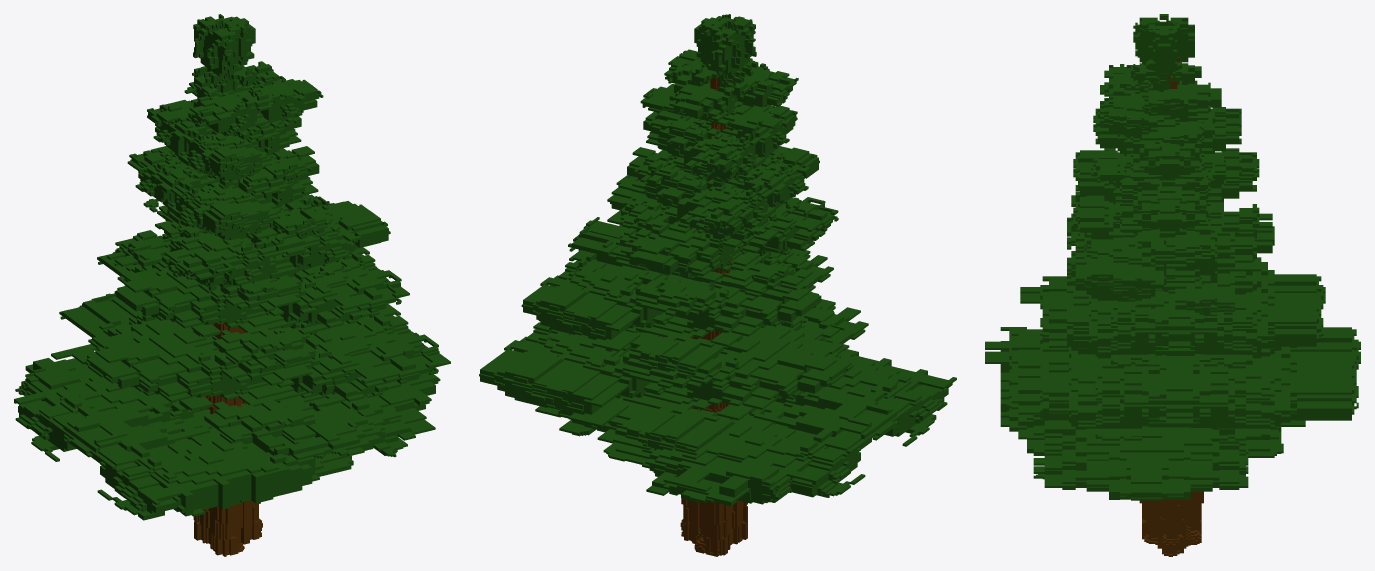
File: PineTree.obj
3 views of the same model, side by side, from view 1: azimuth 30°, elevation 25°; view 2: azimuth 150°, elevation 25°; view 3: azimuth 270°, elevation 25° (orthographic).
Bounding box in the file's own units: 17.9 × 25.6 × 17.
Materials: 1 (1 with a texture image).
